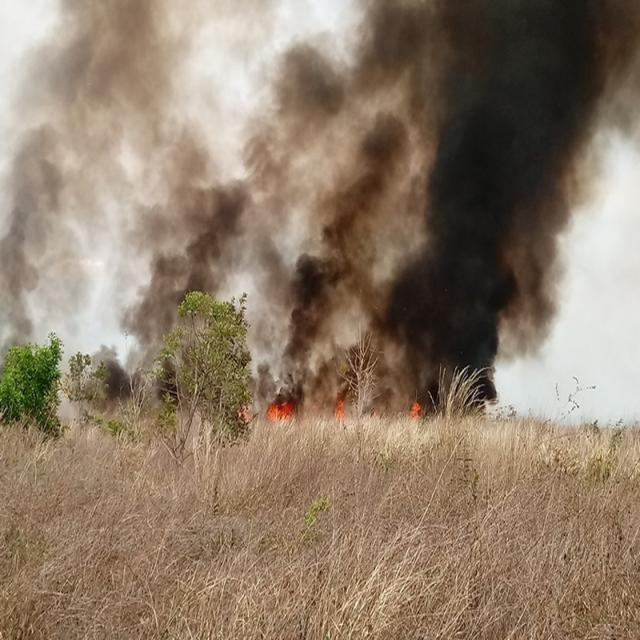Fire: (265, 398, 298, 420), (333, 394, 344, 418), (412, 402, 422, 412)
Smoke: (238, 4, 620, 382), (6, 6, 232, 308)
